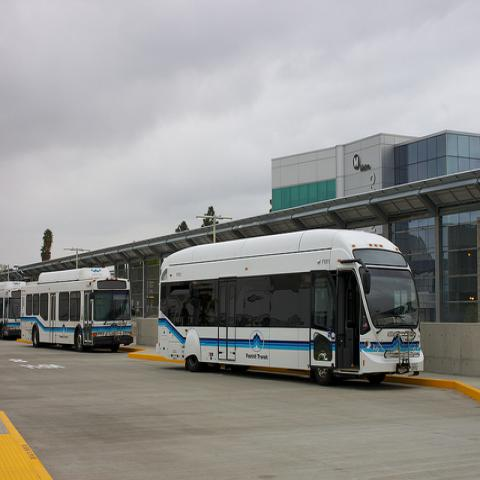bus: (158, 226, 430, 385), (22, 269, 134, 353), (1, 280, 24, 342)
